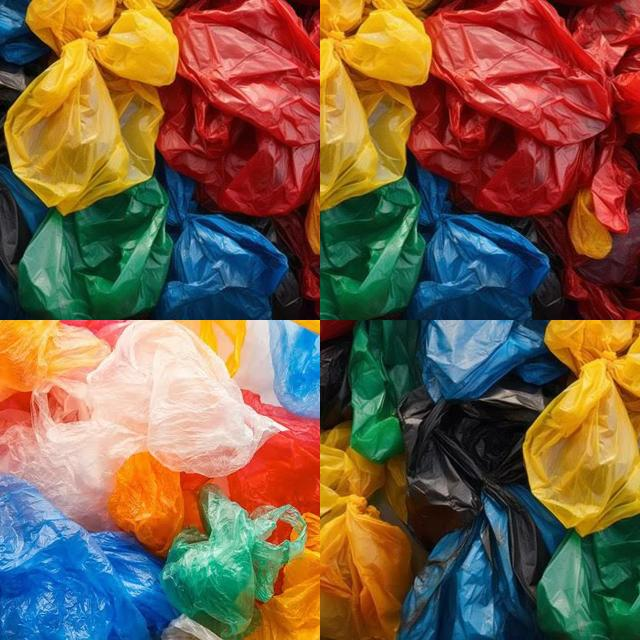Single-layer Plastic: (0, 321, 284, 530), (409, 0, 612, 216), (5, 0, 179, 215), (158, 0, 320, 216), (309, 0, 431, 251), (0, 474, 178, 639), (398, 485, 566, 639), (524, 320, 640, 536), (408, 160, 550, 320), (161, 484, 306, 639), (19, 178, 172, 319), (155, 165, 288, 320), (318, 424, 412, 640), (400, 389, 534, 512), (570, 0, 640, 233), (320, 178, 425, 320), (538, 515, 640, 640), (421, 320, 566, 401), (536, 209, 640, 319), (228, 390, 319, 515), (349, 320, 420, 462), (244, 512, 322, 639), (0, 320, 111, 401), (108, 452, 184, 556), (269, 320, 319, 418), (568, 188, 612, 259)
